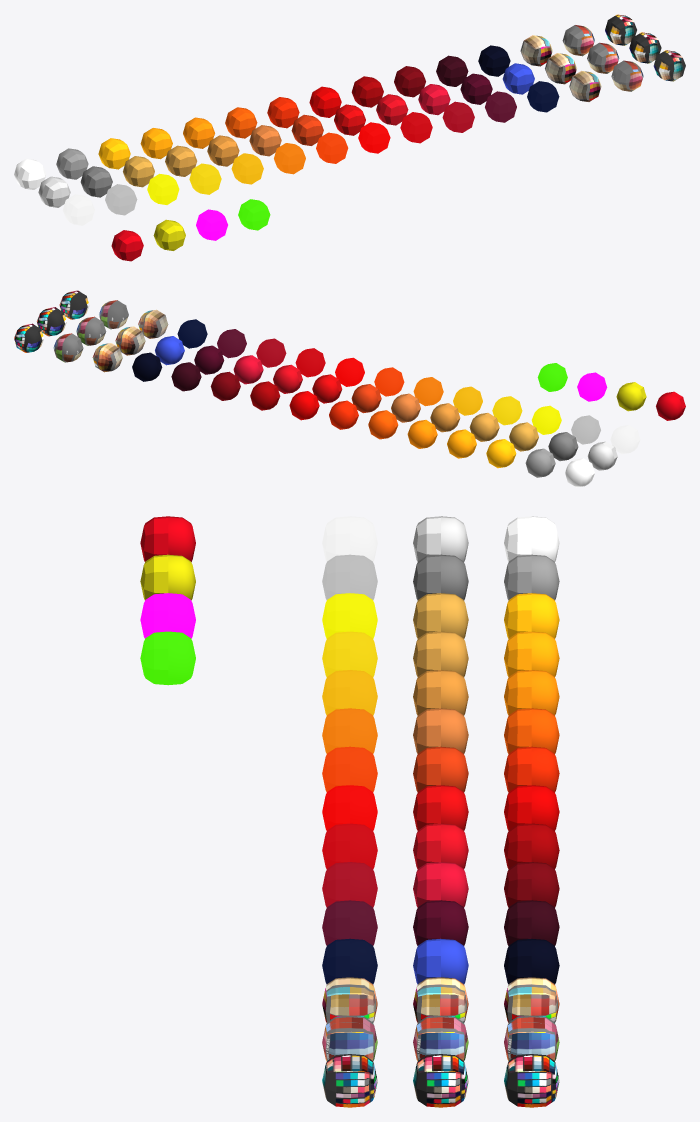
The model's file is gltf-materials.gltf.
3 views of the same model, one above another, from view 1: azimuth 30°, elevation 25°; view 2: azimuth 150°, elevation 25°; view 3: azimuth 270°, elevation 25° (orthographic). The views are drawn at different scales.
Parts seen in each view (by area): view 1: Cube.031, Cube.002, Cube.022, Cube.013, Cube.007, Cube.037, Cube.050, Cube.018, Cube.040, Cube.024, Cube.010, Cube.005 (+37 smaller); view 2: Cube.009, Cube.026, Cube.030, Cube.048, Cube.004, Cube.014, Cube.011, Cube.017, Cube.042, Cube.046, Cube.033, Cube.036 (+37 smaller); view 3: Cube.029, Cube.045, Cube.050, Cube.020, Cube.013, Cube.015, Cube.005, Cube.031, Cube.037, Cube.022, Cube.028, Cube.014 (+37 smaller).
Part boxes in pixels (box(x1,y1,x2,y2)): Cube.031: box(189, 163, 221, 194); Cube.002: box(358, 122, 390, 153); Cube.022: box(611, 60, 643, 91); Cube.013: box(527, 81, 559, 112); Cube.007: box(442, 101, 474, 132); Cube.037: box(105, 184, 137, 215); Cube.050: box(238, 199, 270, 230); Cube.018: box(274, 143, 305, 174); Cube.040: box(62, 194, 94, 225); Cube.024: box(569, 70, 601, 101); Cube.010: box(485, 91, 516, 122); Cube.005: box(400, 112, 432, 143); Cube.009: box(250, 381, 280, 410); Cube.026: box(368, 410, 398, 439); Cube.030: box(407, 420, 437, 448); Cube.048: box(577, 372, 607, 401); Cube.004: box(289, 391, 319, 420); Cube.014: box(210, 371, 240, 400); Cube.011: box(132, 352, 162, 381); Cube.017: box(329, 400, 358, 429); Cube.042: box(565, 458, 594, 487); Cube.046: box(656, 391, 685, 420); Cube.033: box(447, 429, 476, 458); Cube.036: box(486, 439, 516, 468); Cube.029: box(504, 1054, 559, 1107); Cube.045: box(413, 1054, 468, 1107); Cube.050: box(140, 631, 195, 685); Cube.020: box(322, 1054, 377, 1107); Cube.013: box(322, 938, 377, 984); Cube.015: box(322, 746, 377, 792); Cube.005: box(322, 823, 377, 869); Cube.031: box(322, 631, 377, 677); Cube.037: box(322, 554, 377, 600); Cube.022: box(322, 1015, 377, 1061); Cube.028: box(413, 670, 468, 715); Cube.014: box(504, 862, 559, 907).
Size of the model in its own units: 43.83 by 1.83 by 13.84.
Materials: 49 (9 with a texture image).
